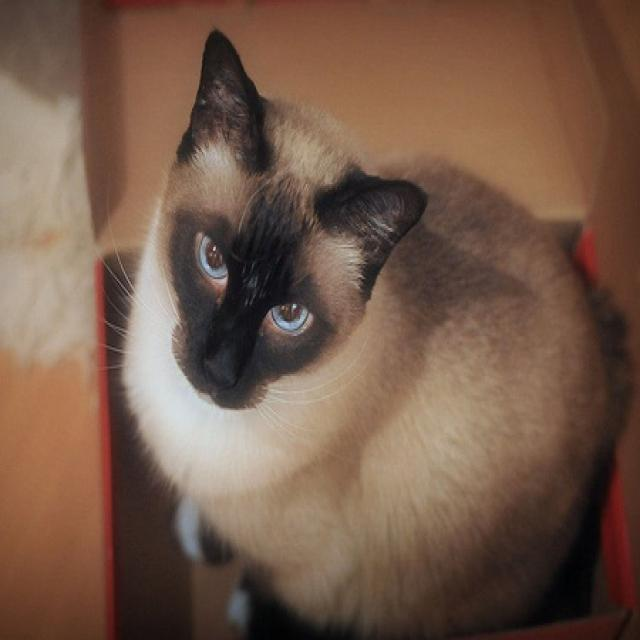Siamese: (115, 19, 632, 640)
